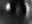person: (25, 1, 32, 20), (7, 3, 12, 15), (17, 4, 21, 17)
